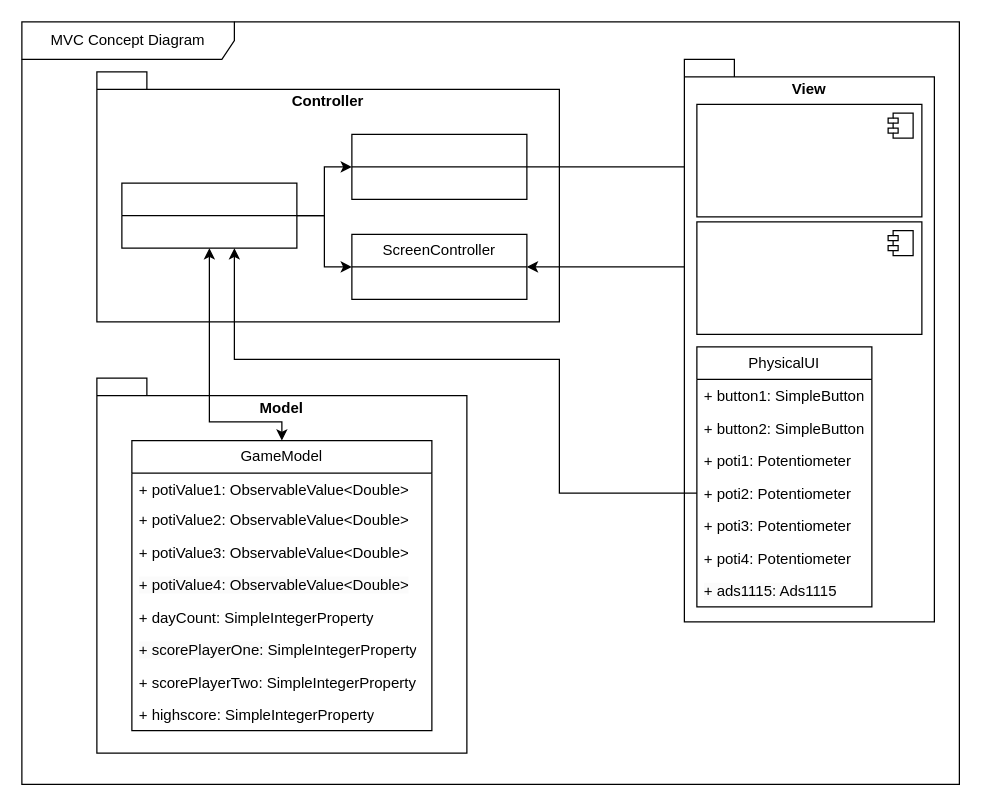
Image size: 981x806. Some labels were removed from this diagram. Each missing label, with the centre of its shape:
GameController: the point at 209,215
LedController: the point at 439,166
«Component» LED Strip: the point at 809,160
«Component» Screen.fxml: the point at 809,277
